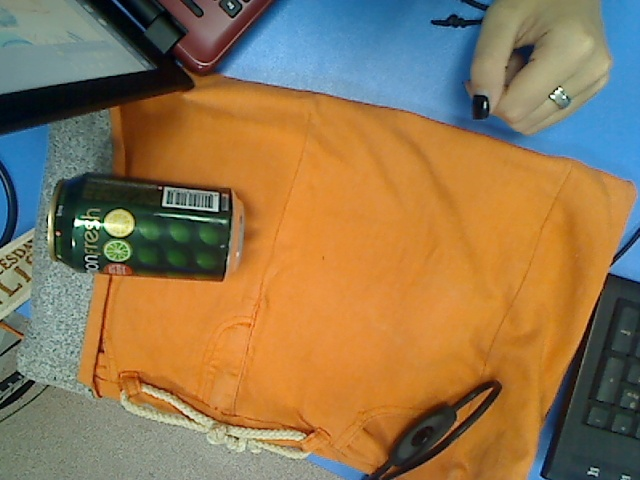can: (44, 172, 251, 282)
